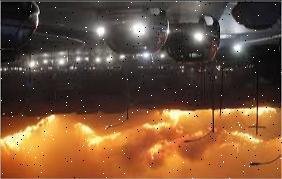fire: (0, 104, 274, 169)
